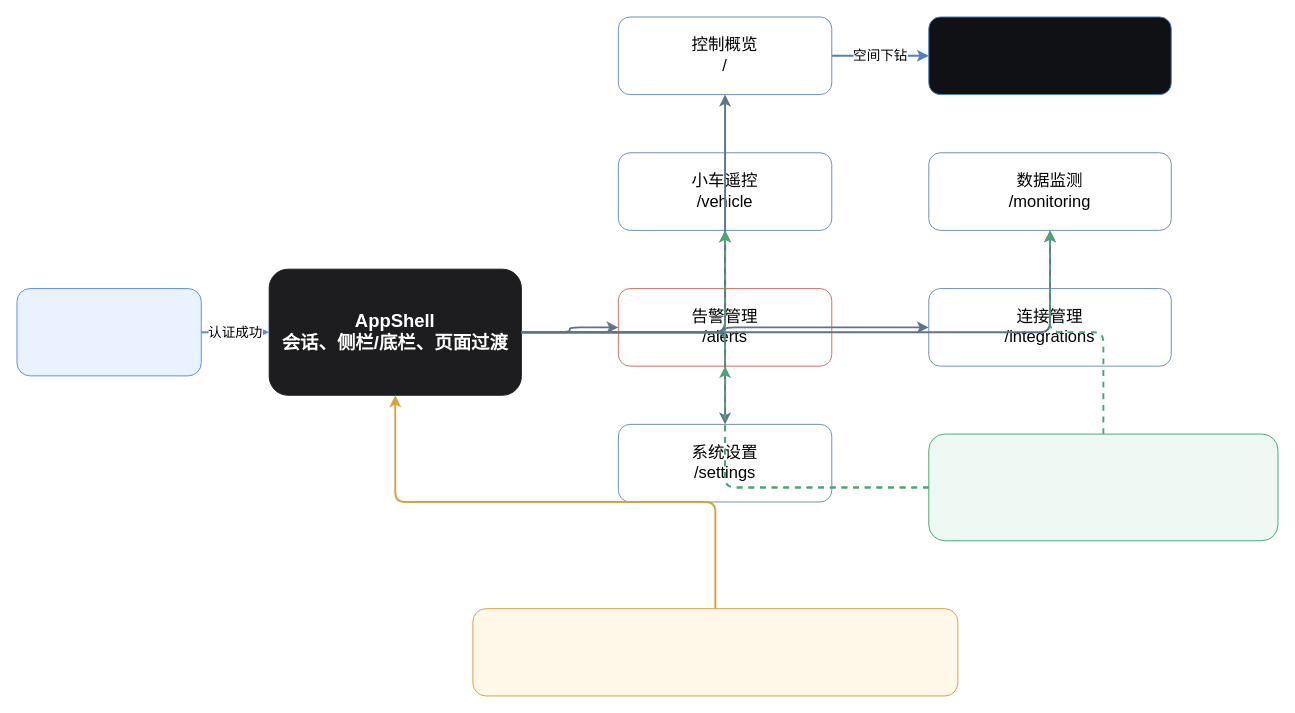
Image size: 1295x713. Some labels were removed from this diagram. The shapes that lost their labels are listed below. From the top down, each one's centre as x and y in pixels, then its label:
point 1049,55: 空间孪生 /digital-twin
point 108,332: 登录页 /login
point 1103,487: AI 浮动交互栏 命名页面 + 白名单动作 + 结果反馈
point 715,652: 响应式规则 桌面侧栏｜窄屏底部导航｜减少动态效果
